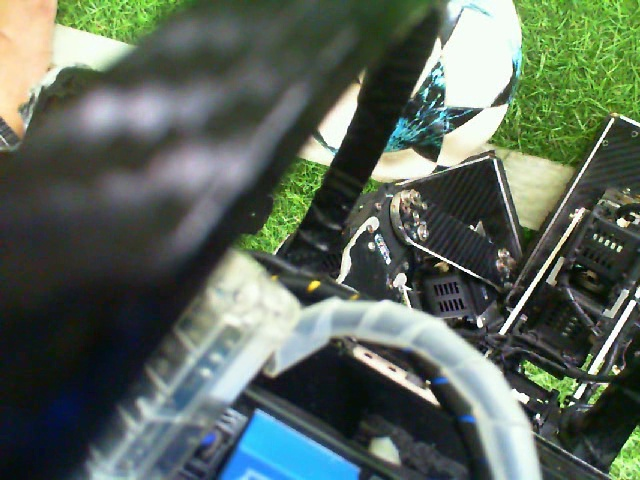ball: (367, 1, 525, 187)
